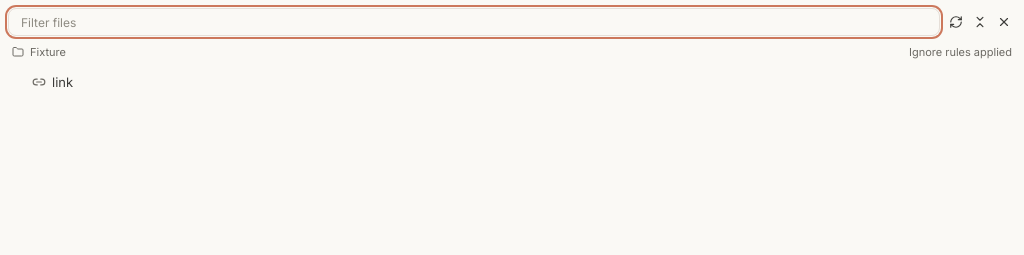
Test: offers link copying but disables reveal with an explanation
Right-click the list item "link" at (53, 82), box [32,74,73,90]
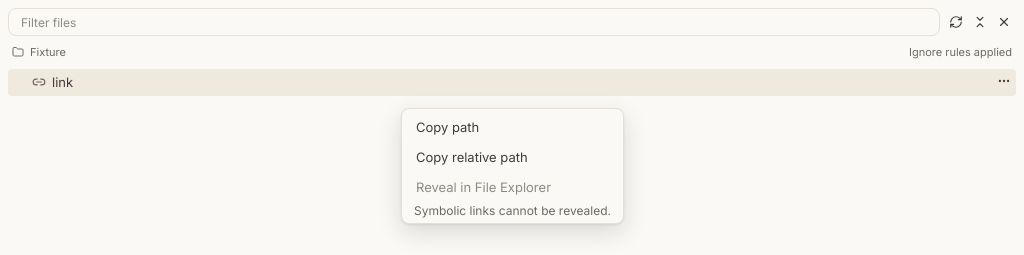
Now the text "Symbolic links cannot be revealed." is shown, box [406,203,619,219]
